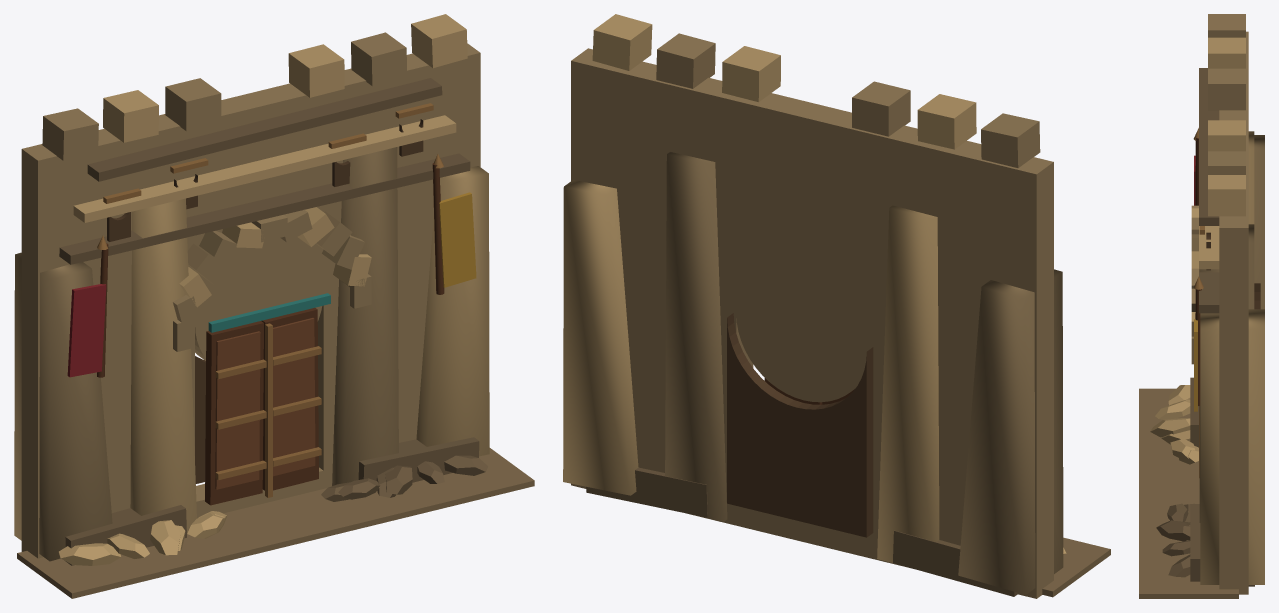
Rendered from palace-facade-dressing.glb.
3 views of the same model, side by side, from view 1: azimuth 30°, elevation 25°; view 2: azimuth 150°, elevation 25°; view 3: azimuth 270°, elevation 25° (orthographic). The views are drawn at different scales.
Parts seen in each view (by area): view 1: gate_iwan_wall, gate_outer_buttress_left, gate_battered_jamb_left, gate_settled_threshold_shadow, gate_battered_jamb_right, gate_outer_buttress_right, gate_weathered_course_1, gate_weathered_course_2, gate_weathered_course_0, gate_door_inner_wear_left, gate_door_inner_wear_right, gate_door_leaf_left (+27 smaller); view 2: gate_iwan_wall, gate_outer_buttress_left, gate_warm_recess, gate_outer_buttress_right, gate_battered_jamb_right, gate_battered_jamb_left, gate_footing_right, gate_low_parapet_chip_1, gate_low_parapet_chip_5, gate_footing_left, gate_low_parapet_chip_3, gate_low_parapet_chip_4 (+3 smaller); view 3: gate_iwan_wall, gate_outer_buttress_right, gate_settled_threshold_shadow, gate_outer_buttress_left, gate_weathered_course_2, gate_low_parapet_chip_2, gate_low_parapet_chip_5, gate_low_parapet_chip_1, gate_low_parapet_chip_3, gate_battered_jamb_right, gate_low_parapet_chip_0, gate_low_parapet_chip_4 (+19 smaller).
Part boxes in pixels (<box>): gate_iwan_wall: <box>21,43,480,558</box>; gate_outer_buttress_left: <box>14,252,112,561</box>; gate_battered_jamb_left: <box>130,198,196,532</box>; gate_settled_threshold_shadow: <box>17,448,534,598</box>; gate_battered_jamb_right: <box>332,147,398,485</box>; gate_outer_buttress_right: <box>416,166,489,456</box>; gate_weathered_course_1: <box>73,115,456,222</box>; gate_weathered_course_2: <box>87,78,442,181</box>; gate_weathered_course_0: <box>59,153,470,264</box>; gate_door_inner_wear_left: <box>215,331,260,489</box>; gate_door_inner_wear_right: <box>273,318,315,476</box>; gate_door_leaf_left: <box>205,321,263,505</box>; gate_iwan_wall: <box>571,48,1053,598</box>; gate_outer_buttress_left: <box>958,269,1063,594</box>; gate_warm_recess: <box>727,313,873,537</box>; gate_outer_buttress_right: <box>563,179,638,495</box>; gate_battered_jamb_right: <box>665,152,727,521</box>; gate_battered_jamb_left: <box>877,205,939,562</box>; gate_footing_right: <box>586,467,707,517</box>; gate_low_parapet_chip_1: <box>917,94,976,149</box>; gate_low_parapet_chip_5: <box>592,14,652,70</box>; gate_footing_left: <box>893,530,1017,596</box>; gate_low_parapet_chip_3: <box>722,46,780,102</box>; gate_low_parapet_chip_4: <box>656,33,715,88</box>; gate_iwan_wall: <box>1219,31,1248,594</box>; gate_outer_buttress_right: <box>1200,309,1264,584</box>; gate_settled_threshold_shadow: <box>1139,388,1238,598</box>; gate_outer_buttress_left: <box>1254,135,1264,309</box>; gate_weathered_course_2: <box>1199,68,1219,225</box>; gate_low_parapet_chip_2: <box>1208,68,1245,110</box>; gate_low_parapet_chip_5: <box>1208,175,1245,216</box>; gate_low_parapet_chip_1: <box>1208,37,1245,68</box>; gate_low_parapet_chip_3: <box>1208,120,1245,151</box>; gate_battered_jamb_right: <box>1199,224,1254,522</box>; gate_low_parapet_chip_0: <box>1208,14,1245,37</box>; gate_low_parapet_chip_4: <box>1208,151,1245,174</box>.
Bounding box in the file's own units: 6.9 × 6.22 × 1.79.
